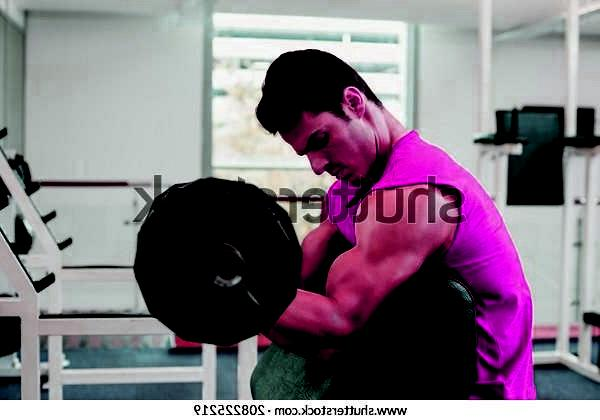Barbell: (202, 241, 250, 295)
